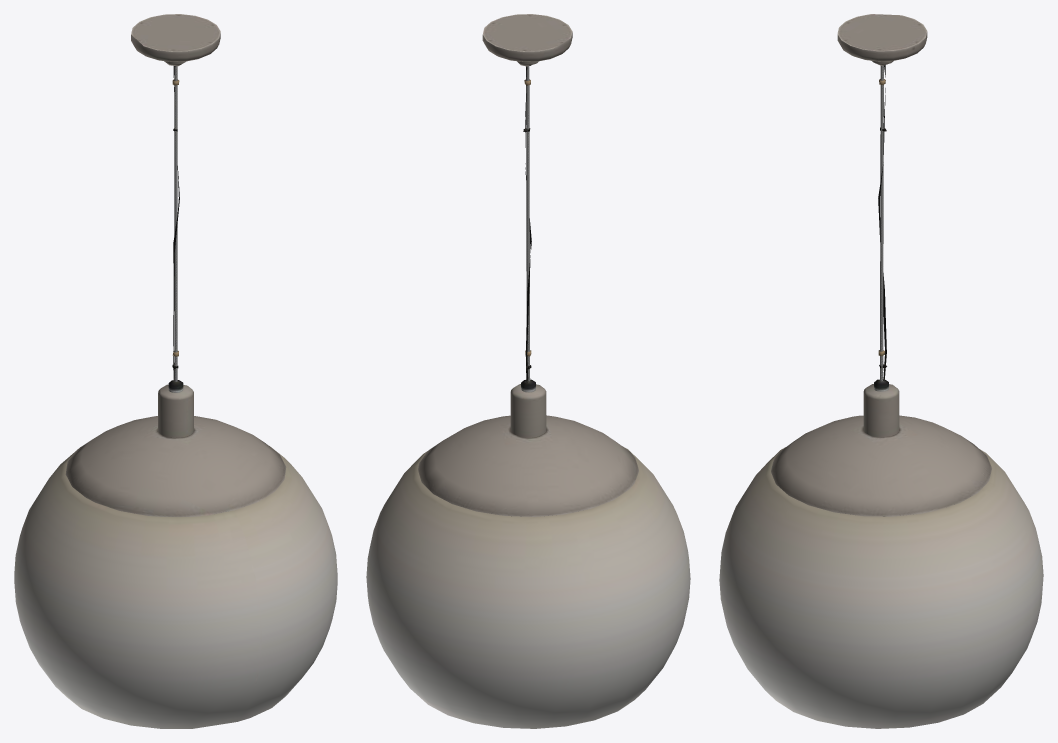
The model's file is modern_ceiling_lamp_01.glb.
3 renders of one model, left to right at view 1: azimuth 30°, elevation 25°; view 2: azimuth 150°, elevation 25°; view 3: azimuth 270°, elevation 25°, orthographic.
Parts seen in each view (by area): view 1: modern_ceiling_lamp_01; view 2: modern_ceiling_lamp_01; view 3: modern_ceiling_lamp_01.
Boxes of the visible parts, left/top/right/bottom form: modern_ceiling_lamp_01: left=14, top=14, right=337, bottom=728; modern_ceiling_lamp_01: left=366, top=14, right=690, bottom=728; modern_ceiling_lamp_01: left=719, top=14, right=1043, bottom=728.
Size of the model in its own units: 0.4316 by 0.9512 by 0.4317.
Materials: 3 (3 with a texture image).
